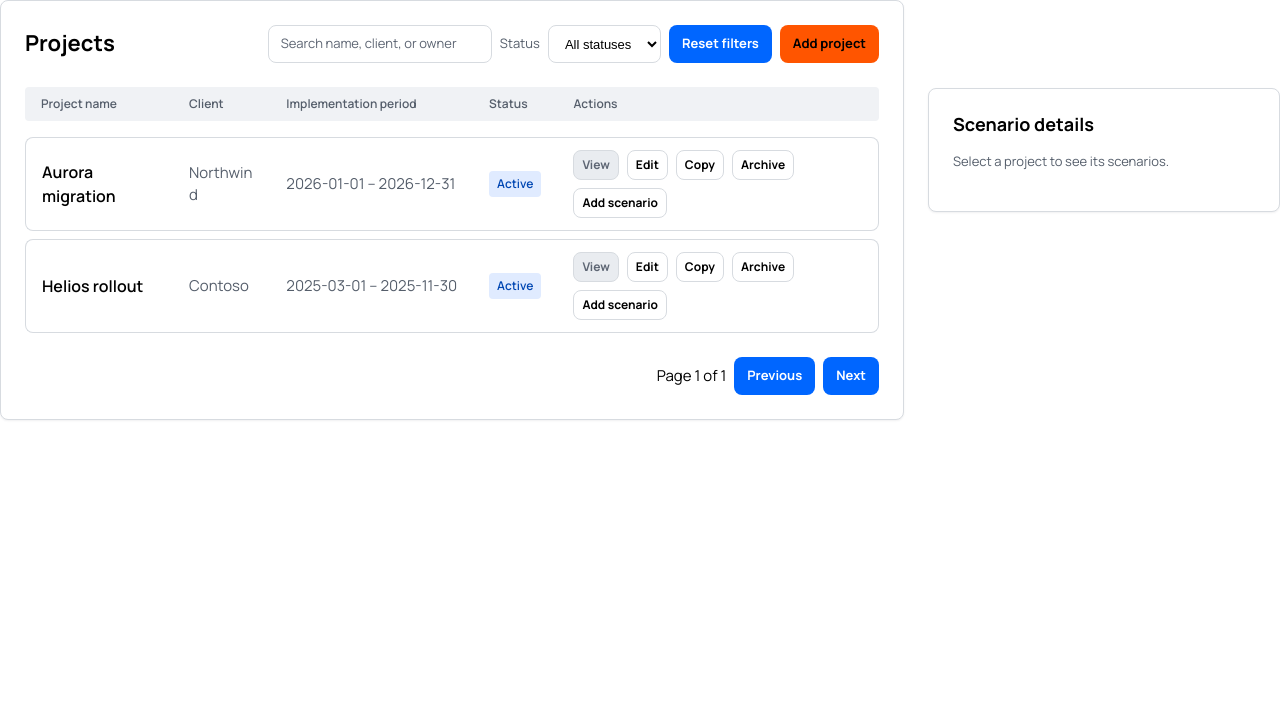
K-03 — the rule's presence decides whether 'Set Time & Material' is offered › shows a model this version does not know by the server's word, as the unsupported state and not as a broken read
The width and height of the screenshot is (1280, 720).
Click the button "Aurora migration". click: (100, 184)
box: [42,160,157,208]
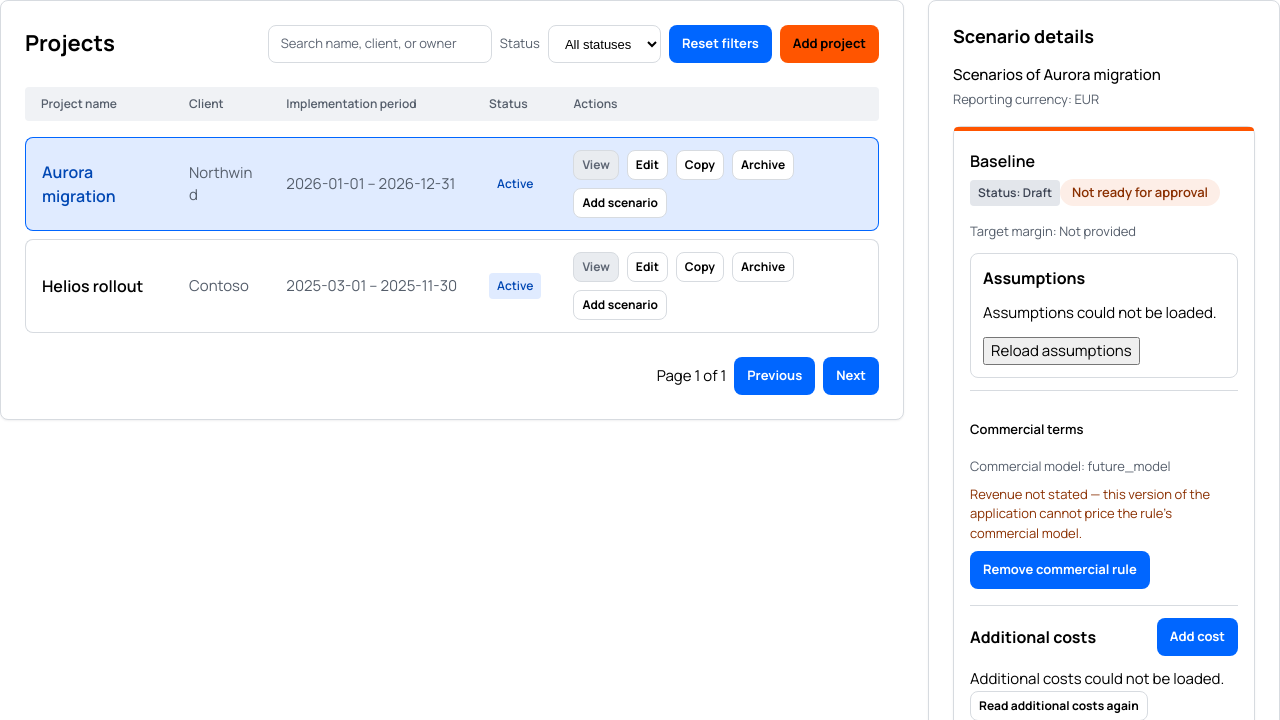
Now the text "Commercial model: future_model" is shown, box [970,457,1170,475]
Now the text "Revenue not stated — this version of the application cannot price the rule's commercial model." is shown, box [970,485,1210,542]
